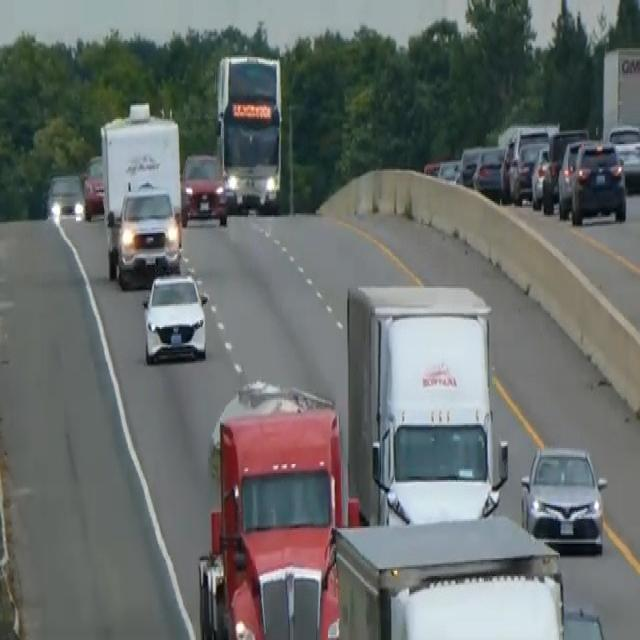bus: (214, 52, 283, 214)
car: (519, 441, 608, 555), (140, 270, 209, 364), (569, 137, 627, 226), (180, 149, 229, 226), (556, 137, 586, 217), (511, 137, 547, 203), (608, 121, 639, 190), (45, 171, 85, 224), (471, 144, 508, 199), (529, 142, 552, 210), (456, 142, 485, 187), (81, 172, 105, 220), (436, 157, 460, 183)
jeep: (107, 182, 182, 286)
lorry: (345, 281, 509, 526)
